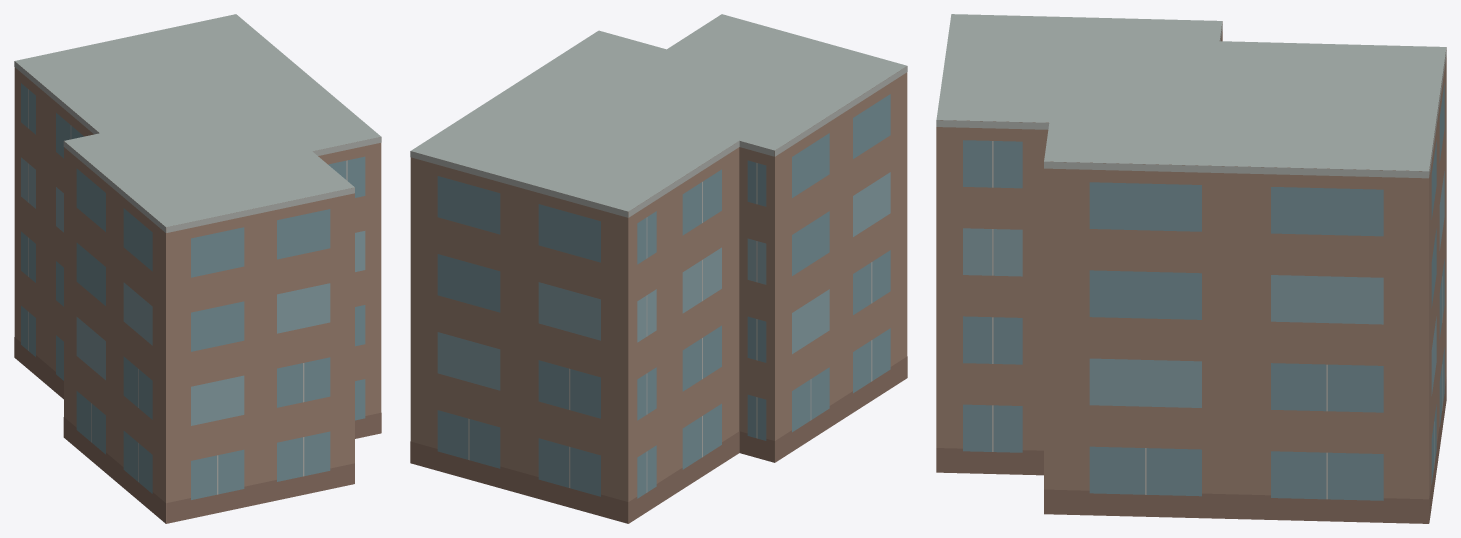
The model's file is residential-923a5bc5-be79-49c8-bbf5-d438a783aca6.glb.
The picture shows the model from 3 angles, left to right: view 1: azimuth 30°, elevation 25°; view 2: azimuth 150°, elevation 25°; view 3: azimuth 270°, elevation 25°; orthographic projection. The views are drawn at different scales.
Parts seen in each view (by area): view 1: residential-923a5bc5-be79-49c8-bbf5-d438a783aca6.tmp; view 2: residential-923a5bc5-be79-49c8-bbf5-d438a783aca6.tmp; view 3: residential-923a5bc5-be79-49c8-bbf5-d438a783aca6.tmp.
Boxes of the visible parts, x1=… form: residential-923a5bc5-be79-49c8-bbf5-d438a783aca6.tmp: x1=14, y1=14, x2=381, y2=523; residential-923a5bc5-be79-49c8-bbf5-d438a783aca6.tmp: x1=410, y1=14, x2=907, y2=523; residential-923a5bc5-be79-49c8-bbf5-d438a783aca6.tmp: x1=936, y1=14, x2=1446, y2=523.
Bounding box in the file's own units: 11.68 × 12.2 × 16.01.
